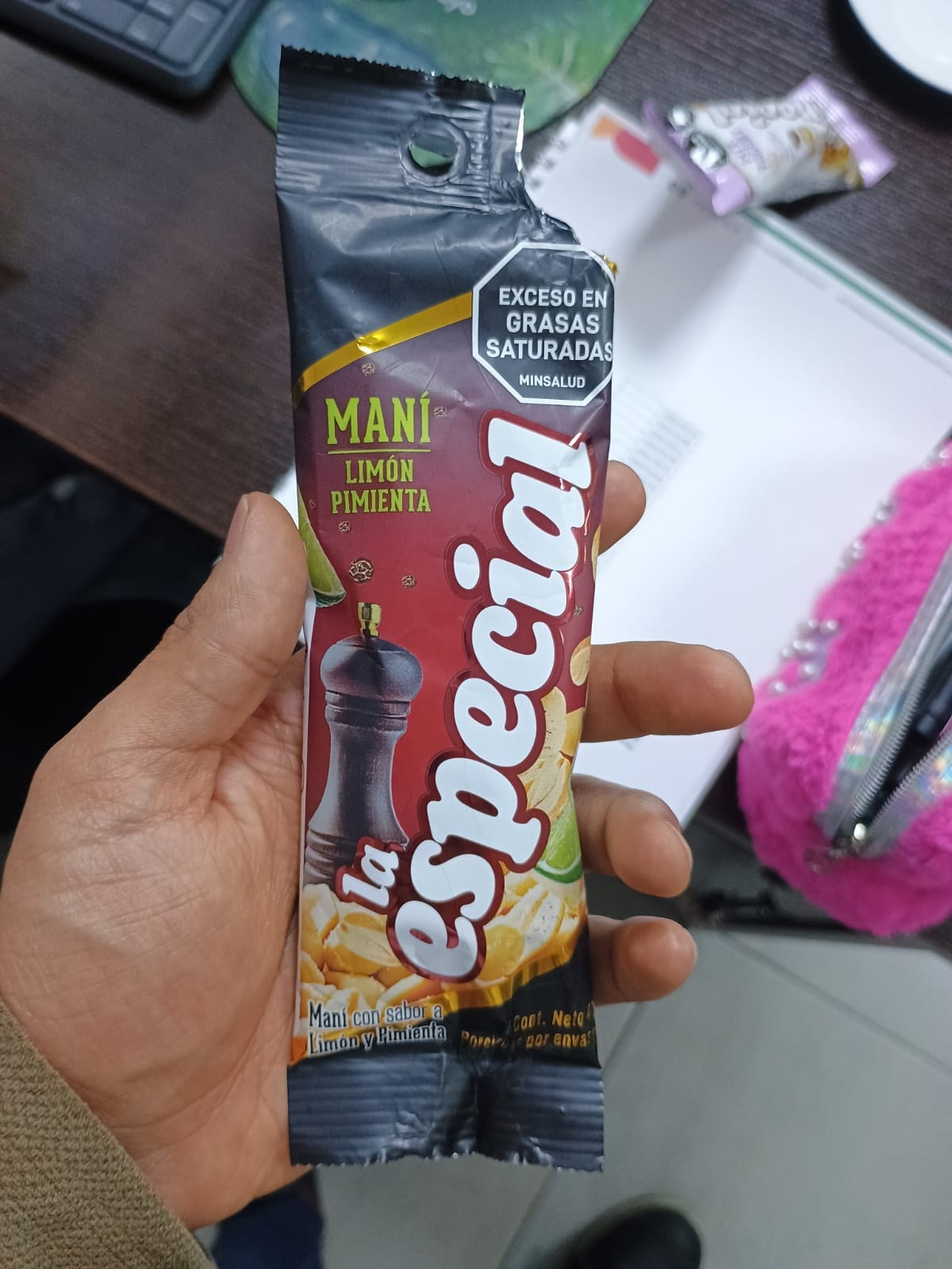Ordinario: (274, 46, 616, 1170)
